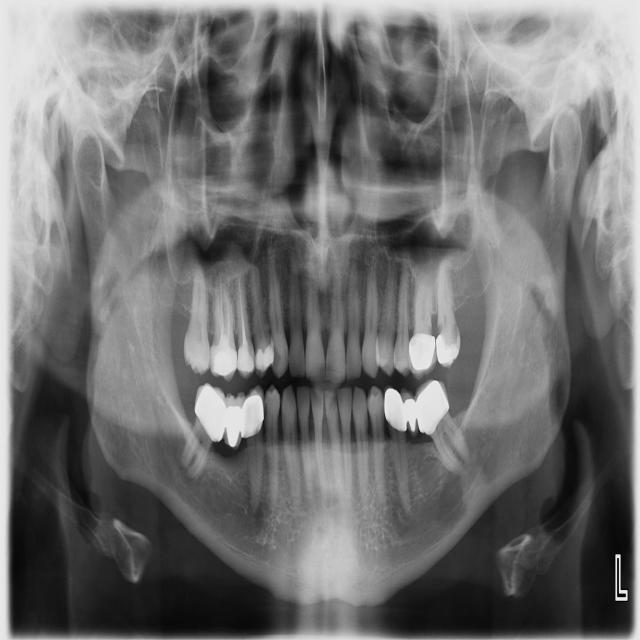mandibula: (70, 102, 584, 605)
